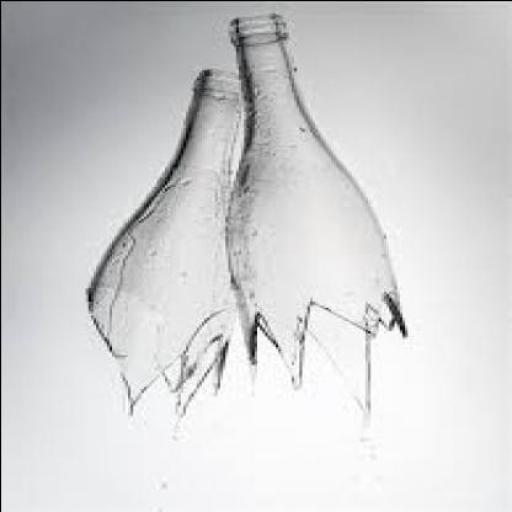glass: (219, 8, 401, 412), (81, 66, 238, 413)
